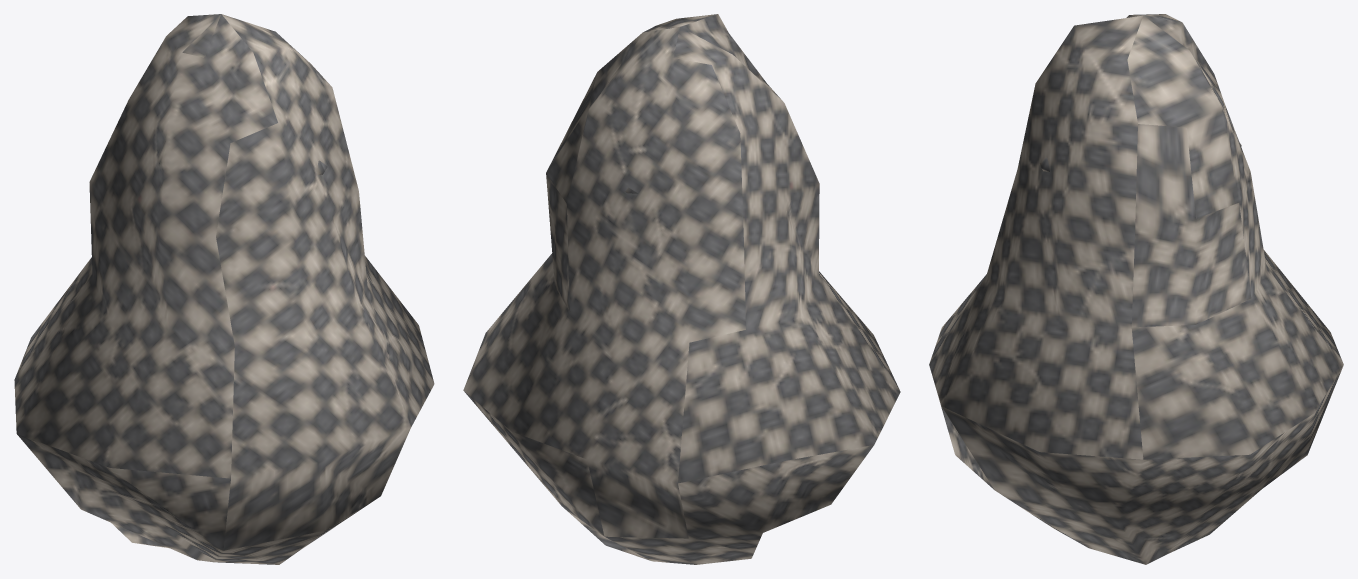
Rendered from sack.fbx.
The picture shows the model from 3 angles, left to right: view 1: azimuth 30°, elevation 25°; view 2: azimuth 150°, elevation 25°; view 3: azimuth 270°, elevation 25°; orthographic projection. The views are drawn at different scales.
Visible parts, largest first — view 1: sack; view 2: sack; view 3: sack.
Part boxes in pixels (<box>): sack: <box>14,14,434,564</box>; sack: <box>463,14,900,564</box>; sack: <box>929,14,1343,564</box>.
Bounding box in the file's own units: 0.1882 × 0.2422 × 0.1739.
1 material, 1 textured.
